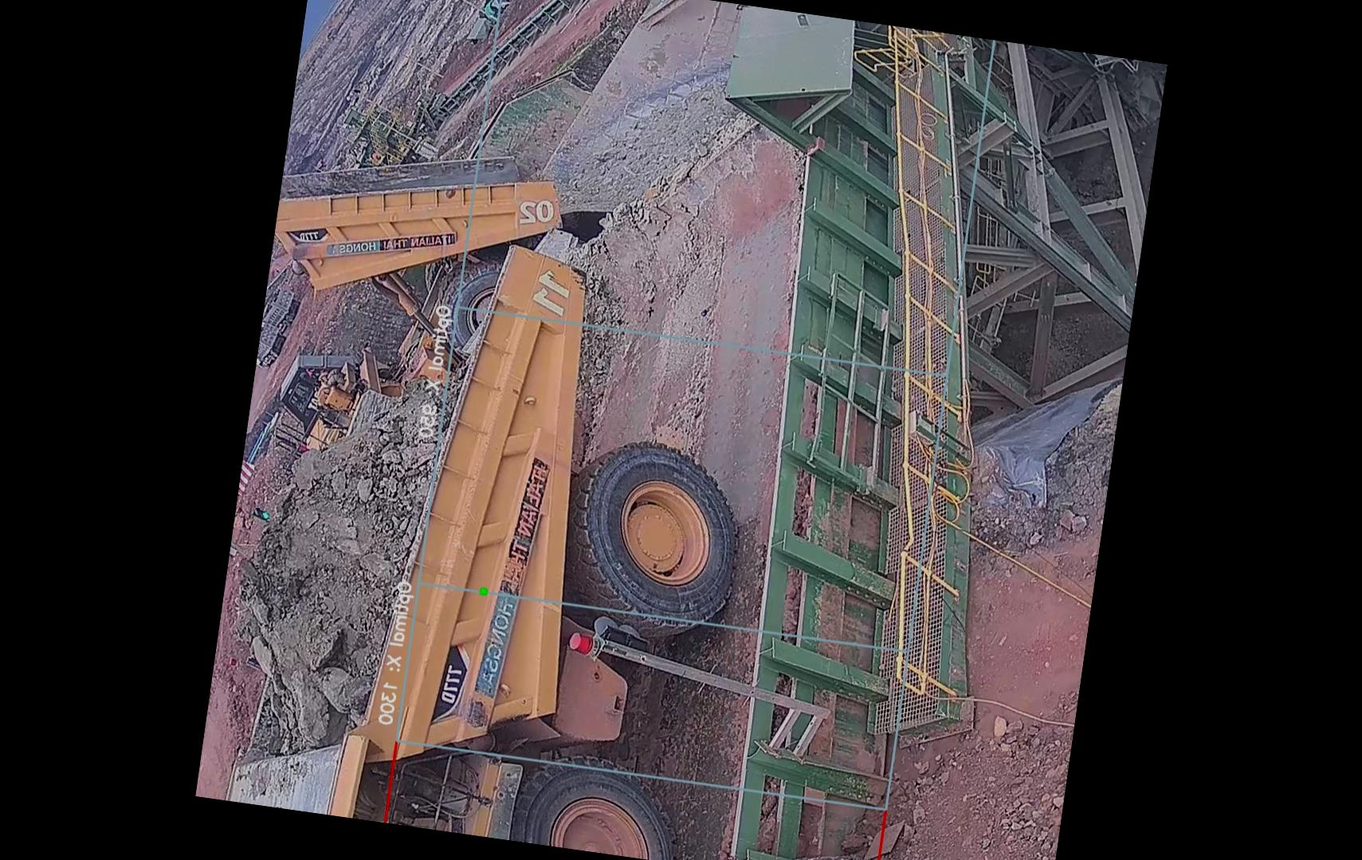company: (471, 448, 558, 706)
full_load: (220, 396, 445, 726)
mining_truck: (198, 198, 770, 860)
tail_number: (514, 256, 583, 327)
truck_size: (420, 628, 474, 732)
